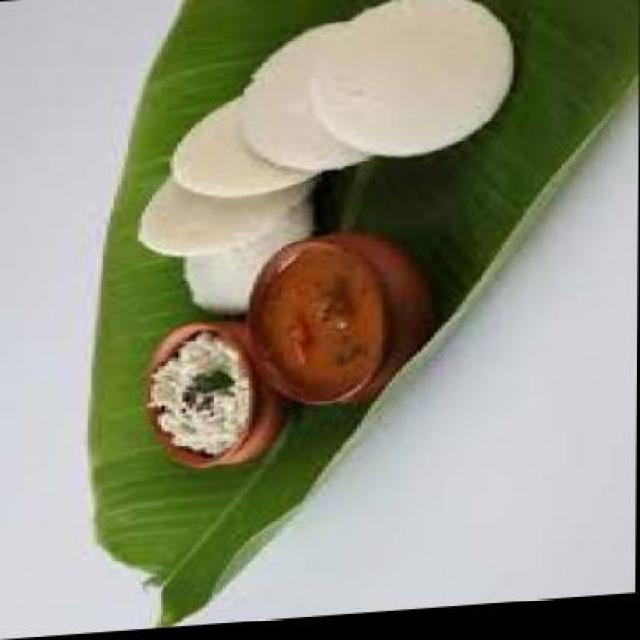idli: (312, 0, 512, 168), (245, 25, 383, 177), (138, 166, 317, 262), (172, 92, 325, 202), (186, 197, 314, 320)
